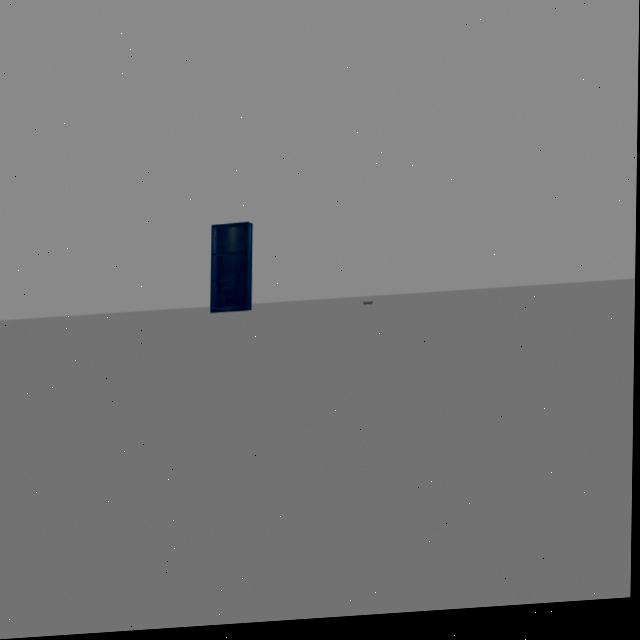bowl: (360, 303, 380, 316)
shelf: (200, 214, 266, 334)
